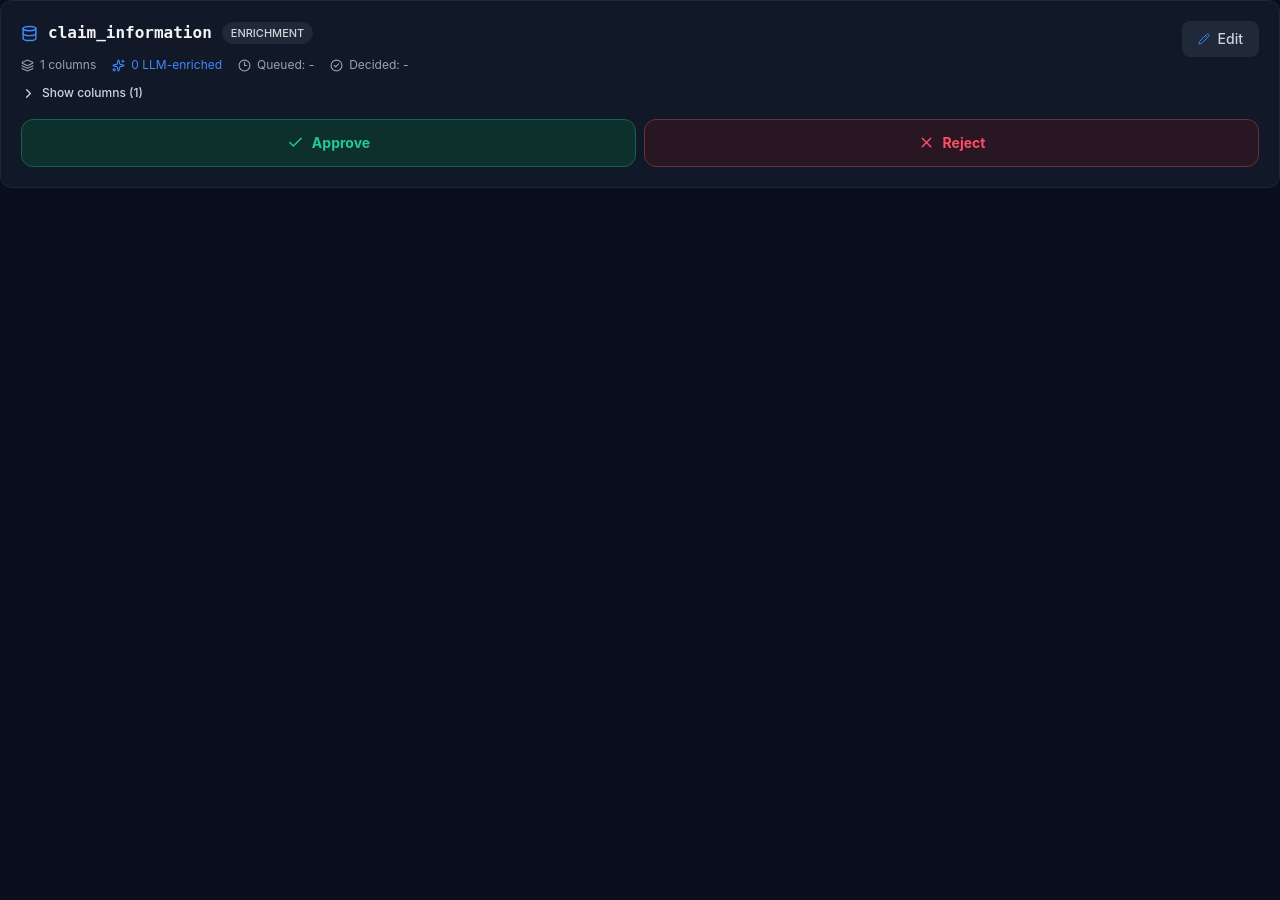
Test: edits only the selected table and saves its semantic draft
The image size is (1280, 900).
Click the button "Edit" at (1220, 39), box [1182, 21, 1259, 57]
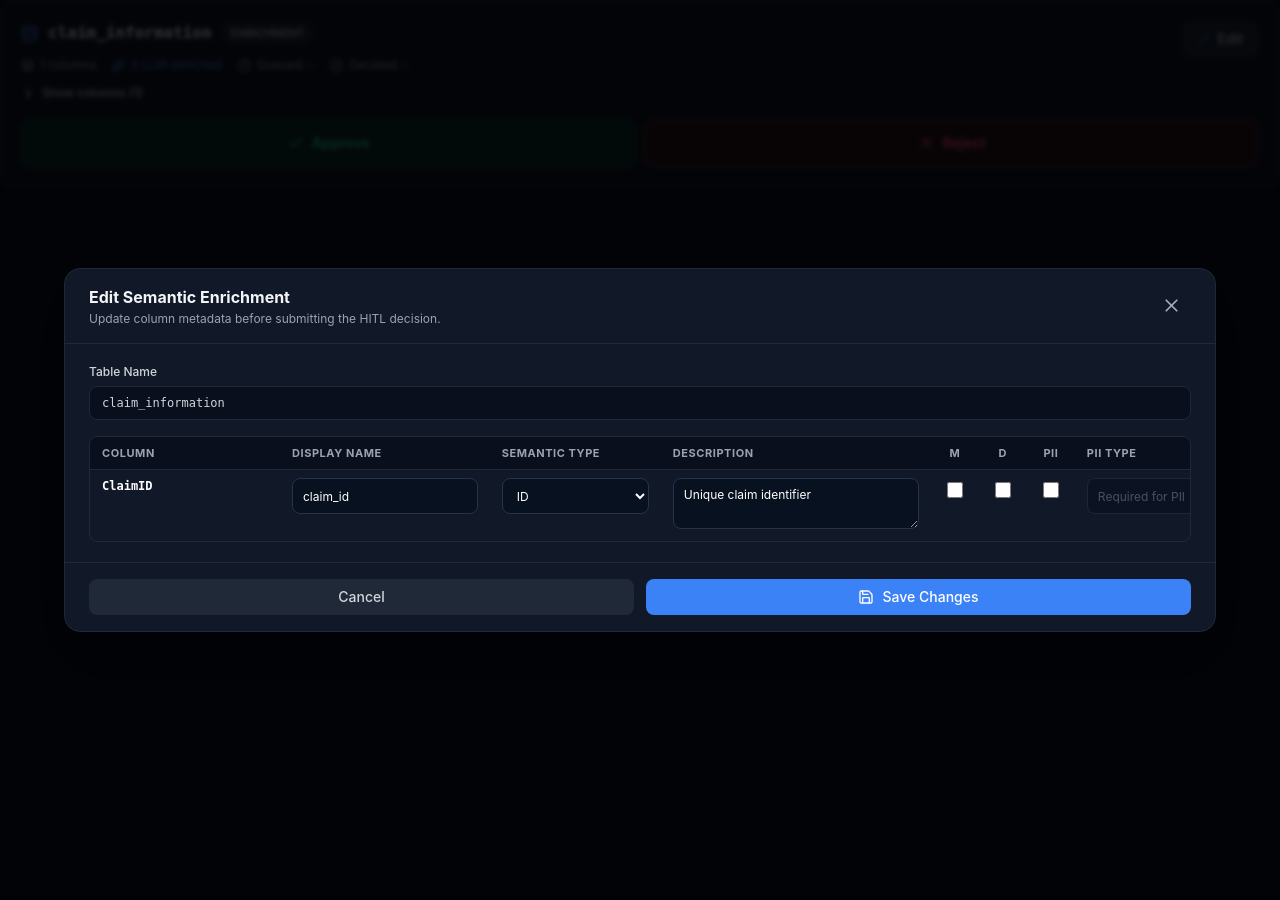
Now the dialog named "Edit claim_information semantic enrichment" is shown
Replace the text in the field showing "claim_id" with "claim identifier" at (385, 496), box [292, 478, 478, 514]
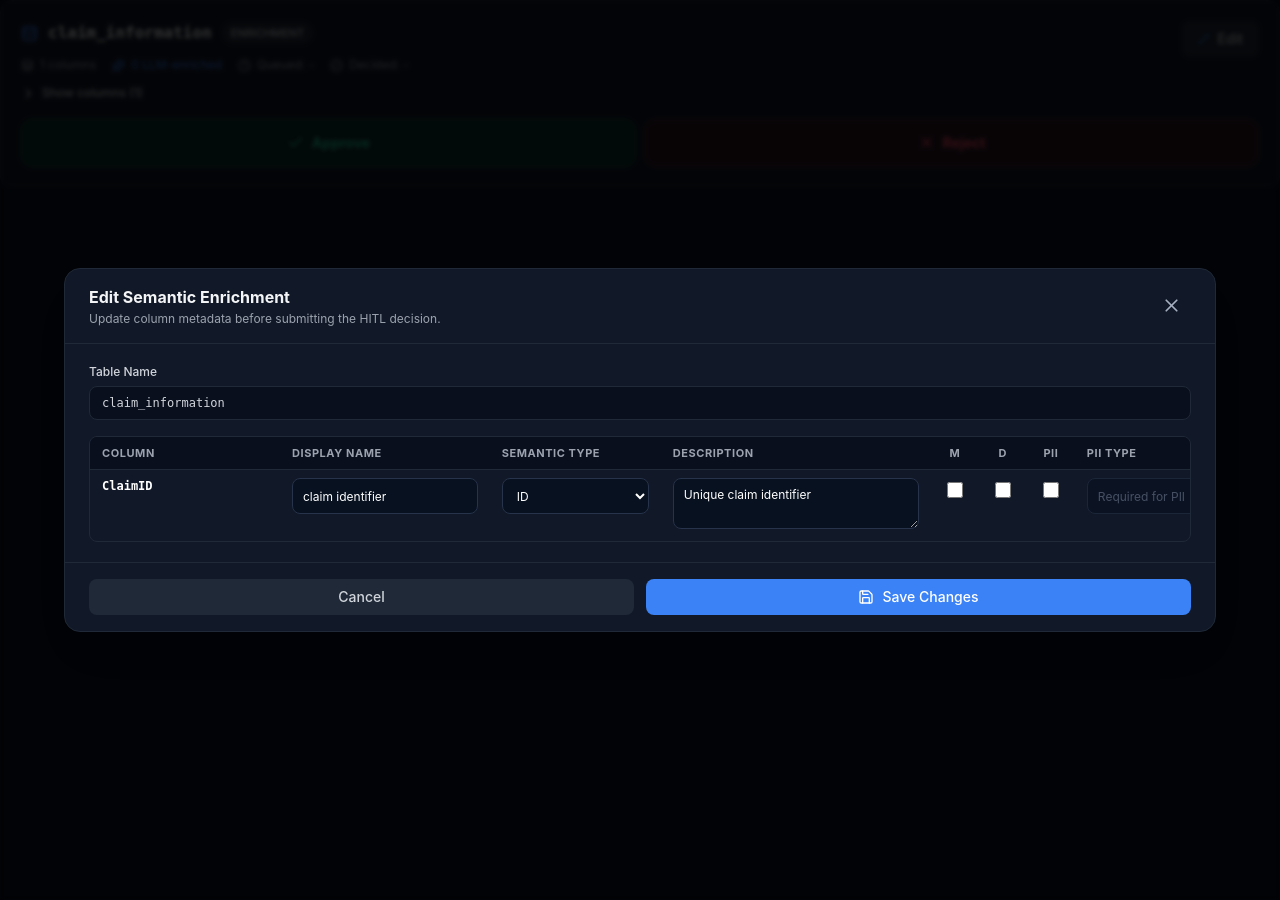
Select "MEASURE" in the dropdown showing "ID" at (575, 496), box [502, 478, 649, 514]
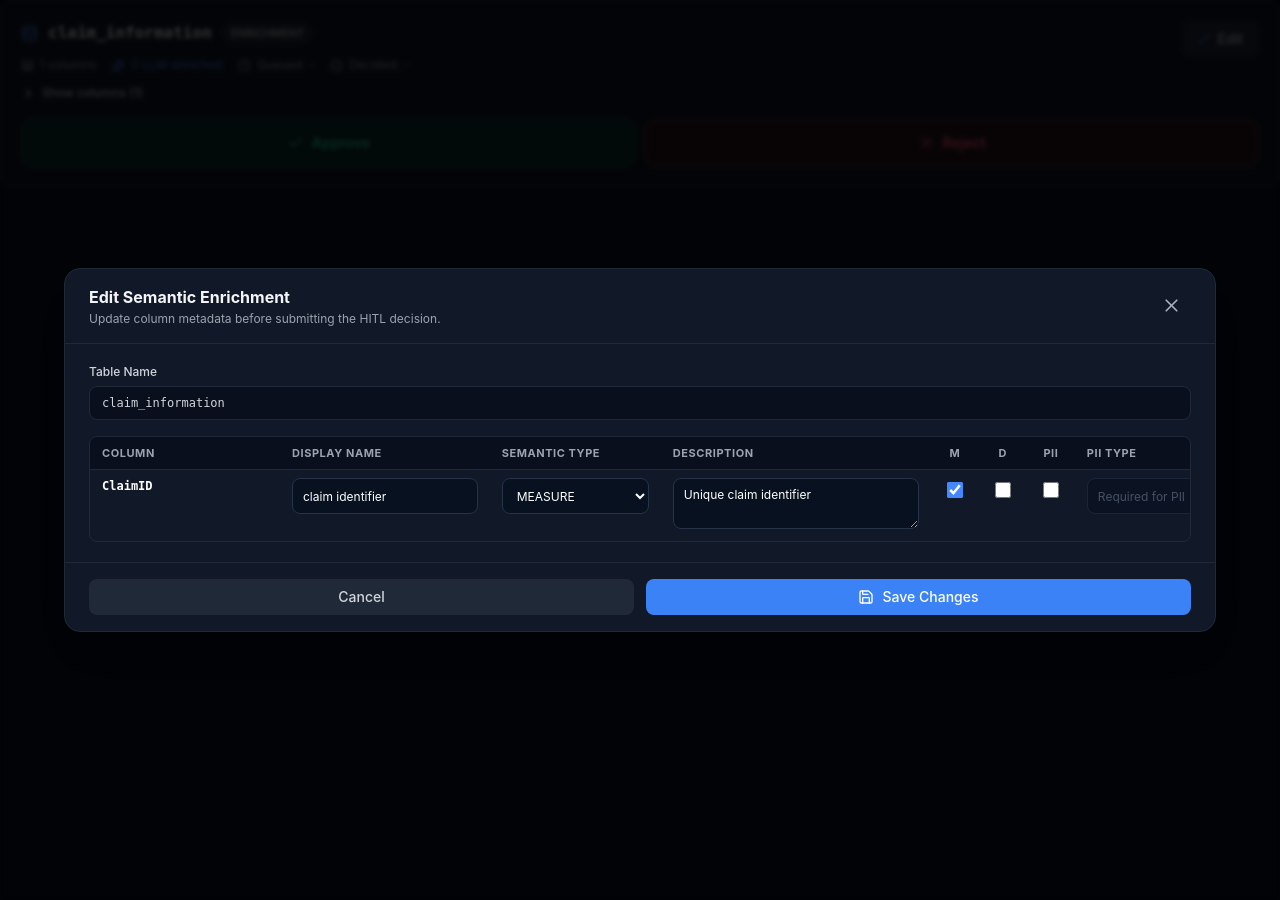
Click the button "Save Changes" at (918, 597), box [646, 579, 1191, 615]
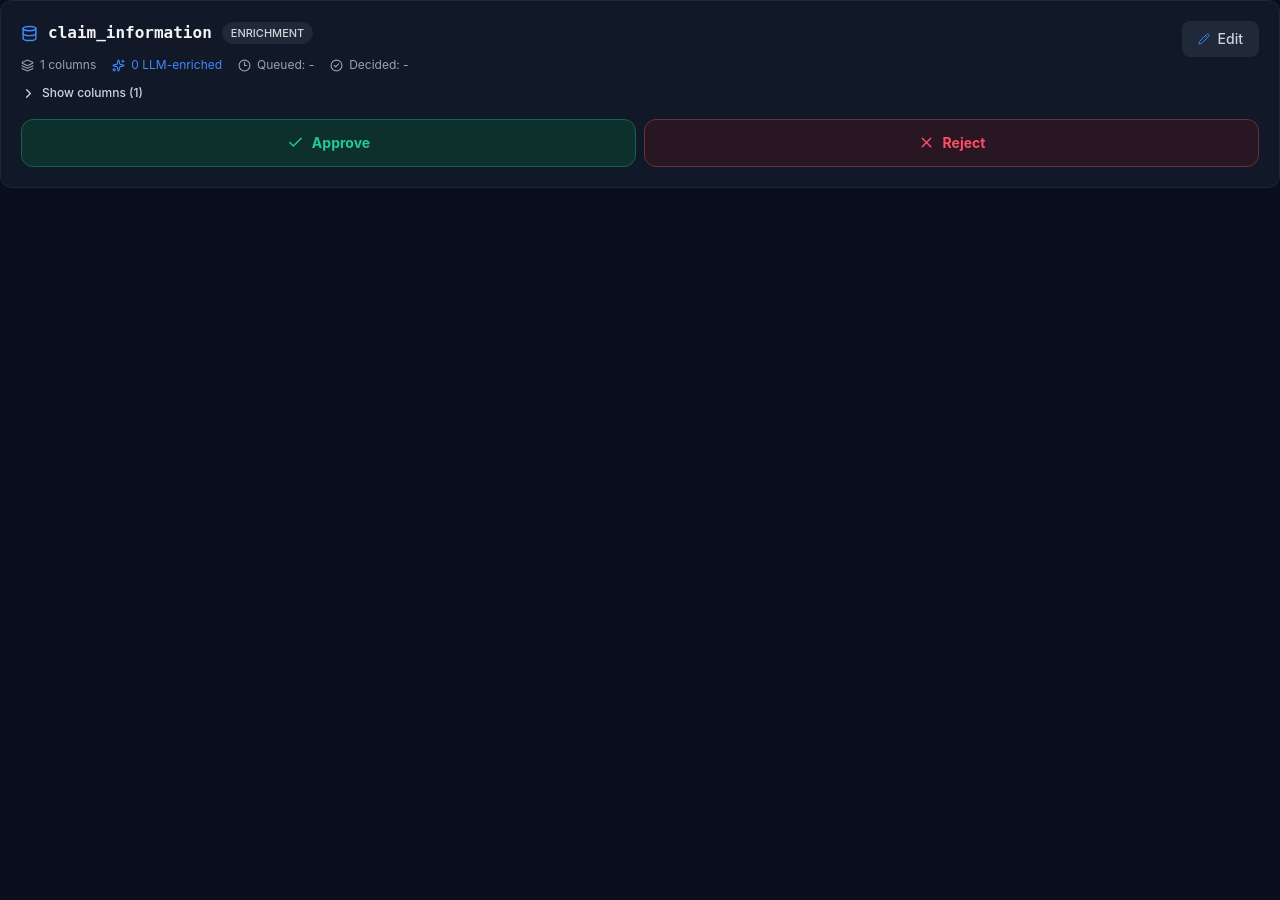
Expected: the heading "claim_information" is shown, [48, 21, 212, 45]
Now the dialog is gone
